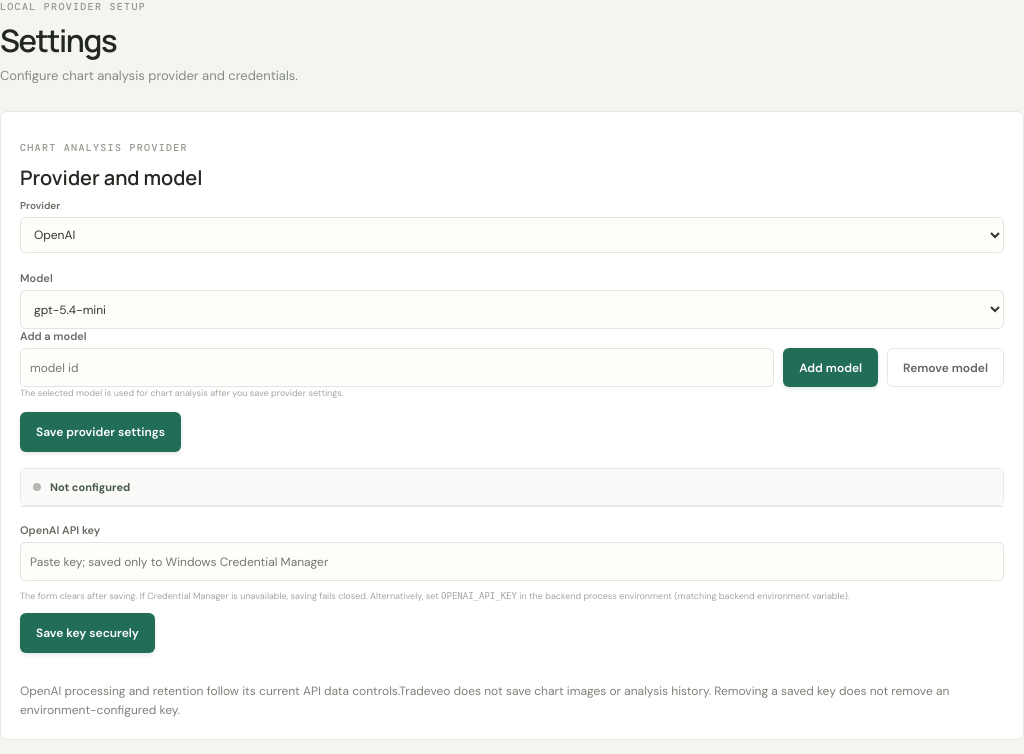
provider settings › shows custom endpoint and model settings only for custom provider
Select "Custom OpenAI-compatible endpoint" in the dropdown labelled "Provider" at point(512, 235), box [20, 217, 1004, 253]
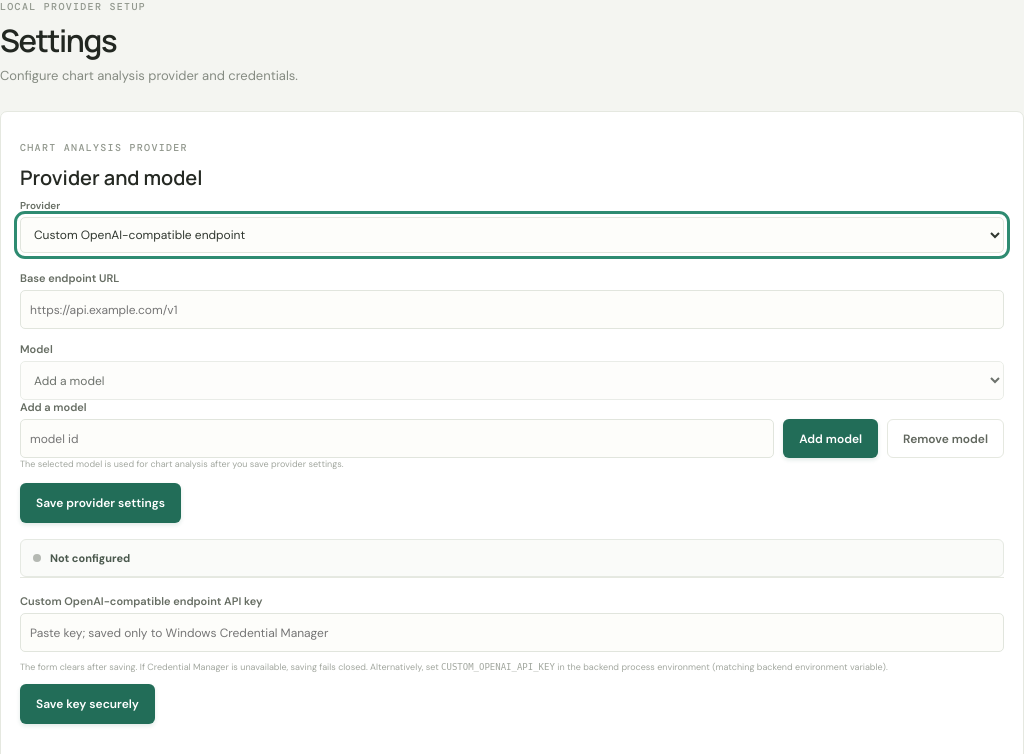
Check: the password field labelled "Custom OpenAI-compatible endpoint API key" is shown, box [20, 613, 1004, 652]
Check: the field labelled "Base endpoint URL" is shown, box [20, 290, 1004, 329]
Check: the dropdown labelled "Model" is shown, box [20, 361, 1004, 400]
